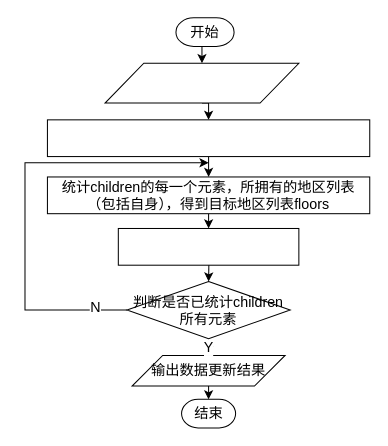
The diagram is 388 pixels wide and 446 high, and some of its shapes have lost their labels. Here are the shapes that lost their labels. From the top down, the box of each, then its label:
(104, 62, 299, 103): 输入地区编号，子平台编号，设备类型编号
(46, 119, 370, 157): 根据地区编号，查找下一层的地区列表，等到待统计的地区列表 children
(117, 227, 299, 265): 在设备表中统计，在目标地区floors中的设备数量
